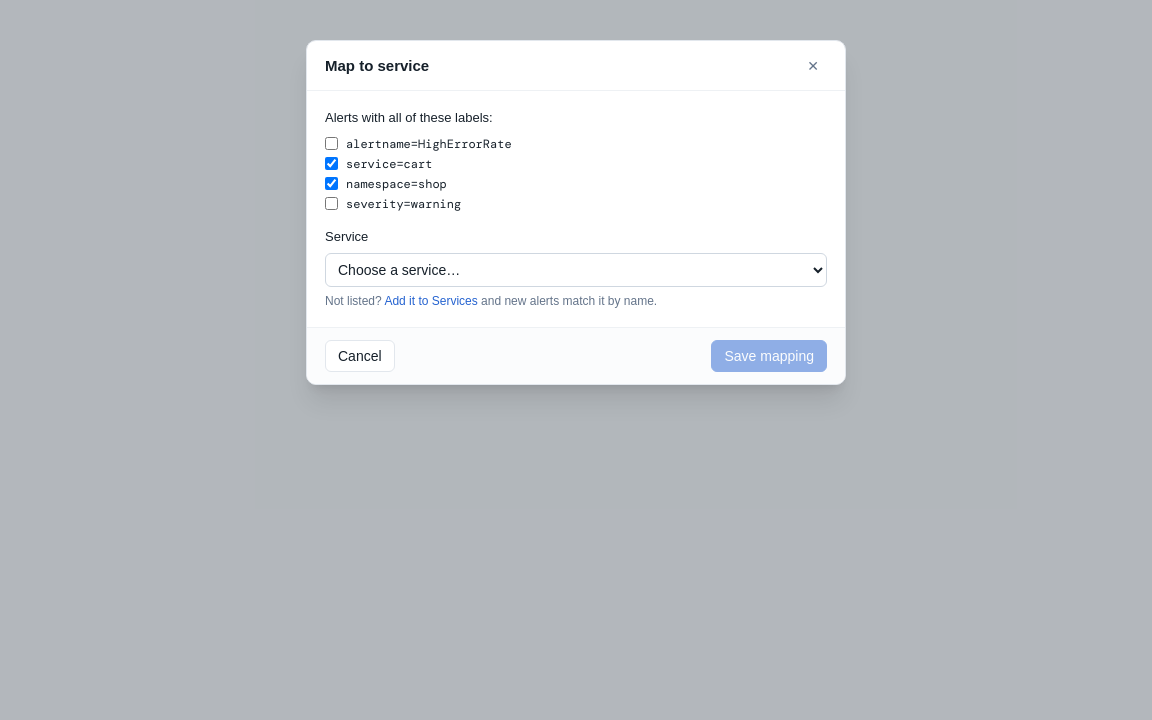
a duplicate rule is explained
Select "checkout · shop" in the dropdown labelled "Service": {"x": 576, "y": 270} [325, 252, 827, 286]
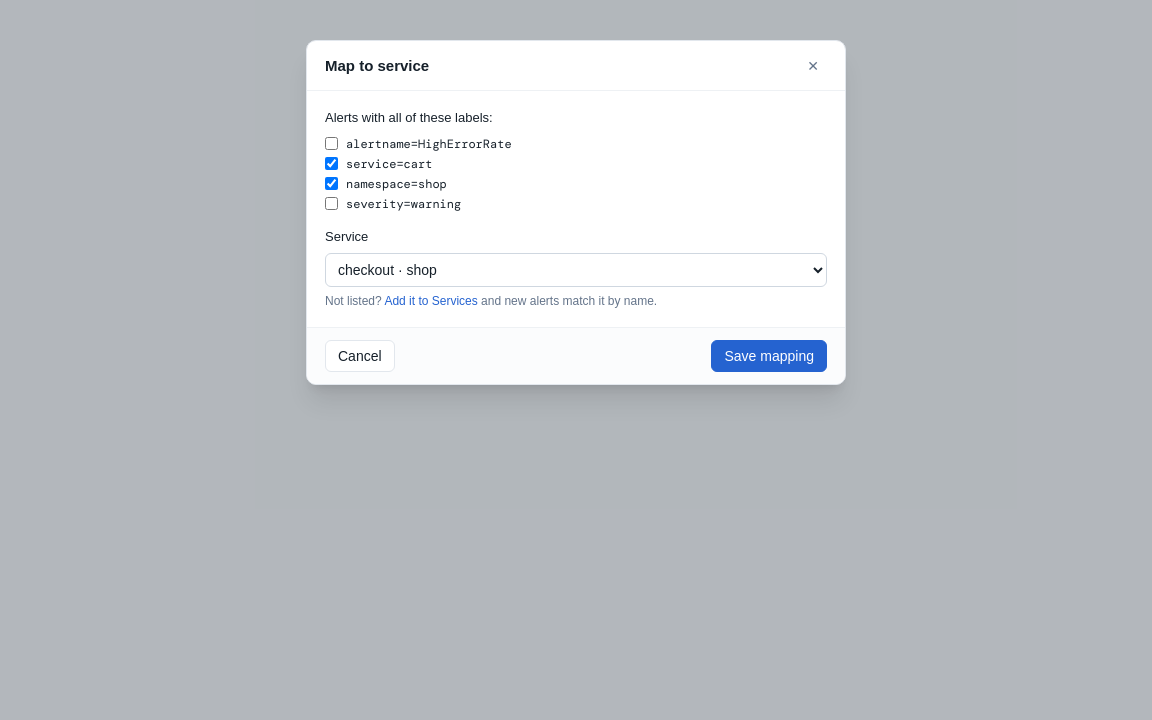
Click the button "Save mapping": {"x": 769, "y": 356} [712, 340, 827, 372]
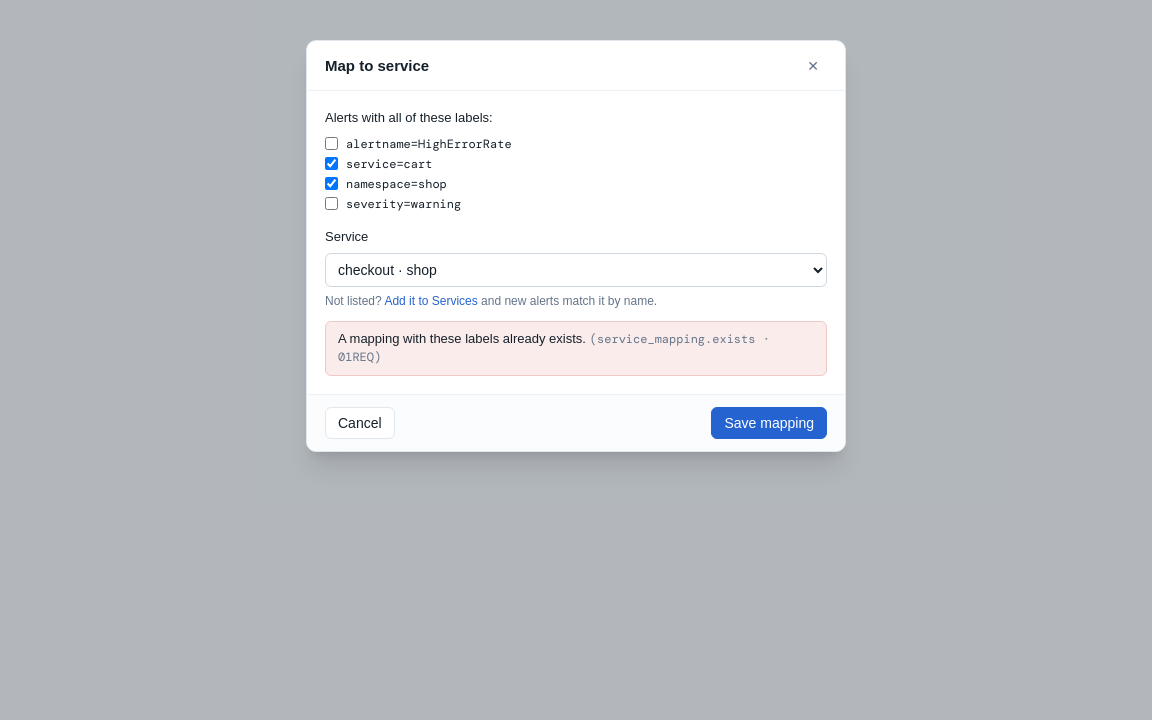
Result: the message shows "service_mapping.exists" at [597, 330, 756, 346]
